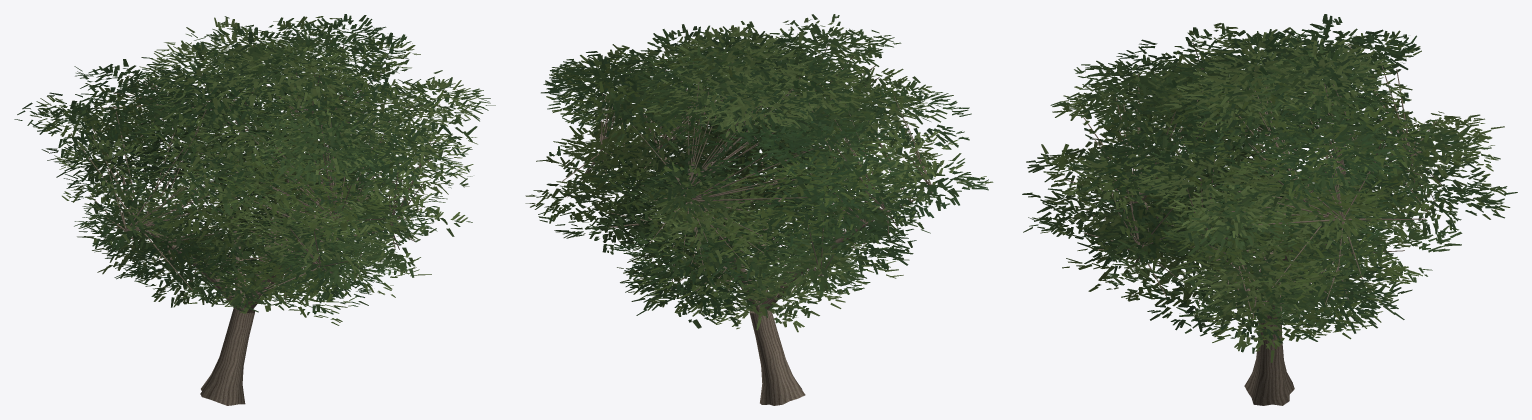
The model's file is mcyp.glb.
3 views of the same model, side by side, from view 1: azimuth 30°, elevation 25°; view 2: azimuth 150°, elevation 25°; view 3: azimuth 270°, elevation 25° (orthographic). The views are drawn at different scales.
Visible parts, largest first — view 1: mcyp_lod0_1, mcyp_lod0_0; view 2: mcyp_lod0_1, mcyp_lod0_0; view 3: mcyp_lod0_1, mcyp_lod0_0.
Boxes of the visible parts, <box> form: mcyp_lod0_1: <box>14,14,495,325</box>; mcyp_lod0_0: <box>70,38,443,405</box>; mcyp_lod0_1: <box>525,14,993,332</box>; mcyp_lod0_0: <box>562,42,932,405</box>; mcyp_lod0_1: <box>1022,14,1517,362</box>; mcyp_lod0_0: <box>1066,42,1450,405</box>.
Size of what is drawn, in the model's own units: 24.3 by 18.99 by 23.57.
2 materials, 1 textured.
